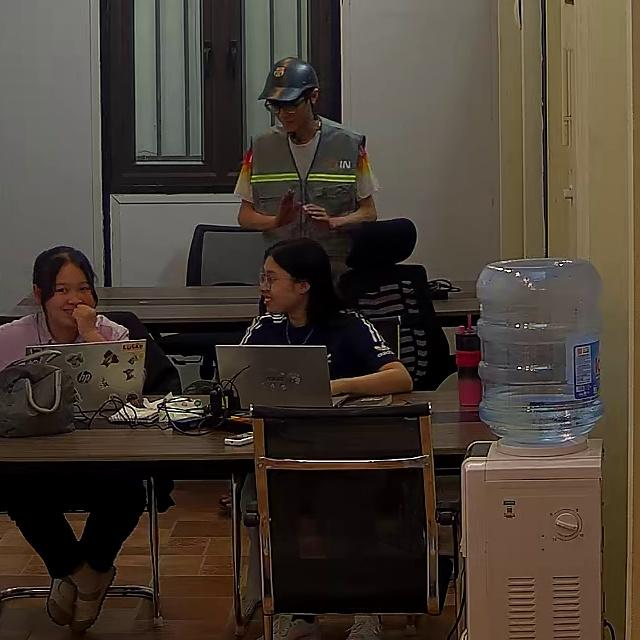helmet: (256, 55, 321, 103)
no_helmet: (262, 238, 341, 323), (31, 246, 98, 328)
none: (234, 307, 400, 384), (0, 312, 128, 385)
vest: (239, 118, 369, 219)
